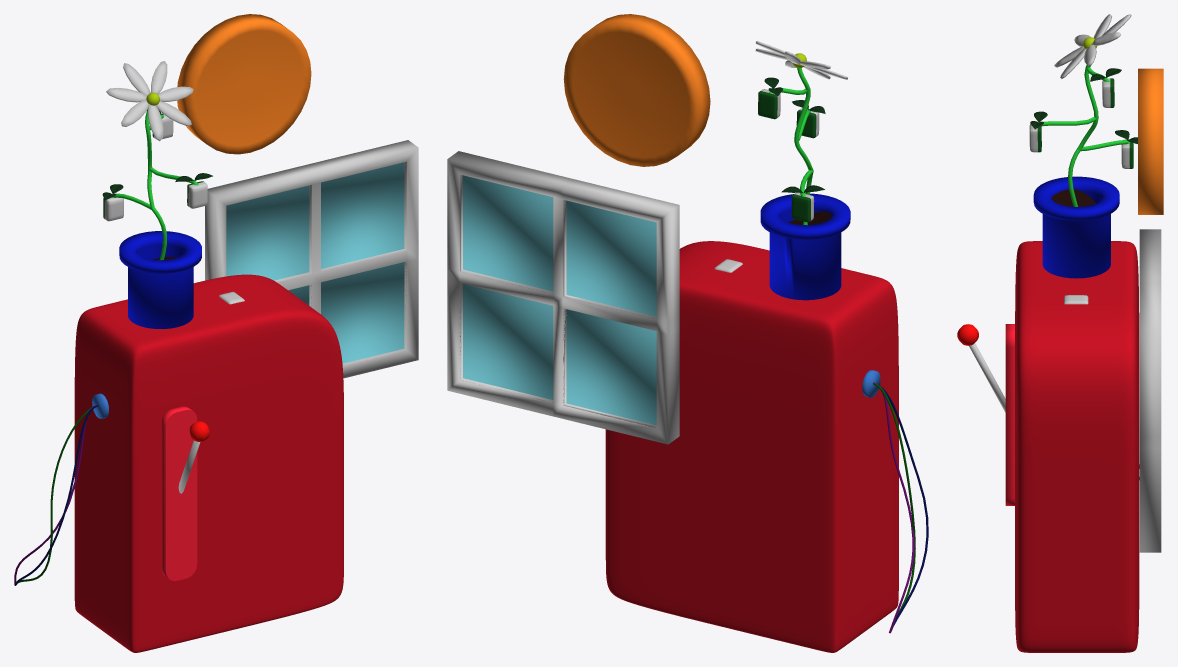
The model's file is plant.obj.
3 views of the same model, side by side, from view 1: azimuth 30°, elevation 25°; view 2: azimuth 150°, elevation 25°; view 3: azimuth 270°, elevation 25° (orthographic). The views are drawn at different scales.
Visible parts, largest first — view 1: machine_machine_mesh, window_window_mesh, clock_clock_mesh, pot_pot_mesh, slideslot_slideslot_mesh.001, petal_petal_mesh, stem_stem_mesh; view 2: machine_machine_mesh, window_window_mesh, clock_clock_mesh, pot_pot_mesh, stem_stem_mesh, petal_petal_mesh, cable2_BezierCurve.001, cable3_BezierCurve.002; view 3: machine_machine_mesh, window_window_mesh, pot_pot_mesh, clock_clock_mesh, slideslot_slideslot_mesh.001, petal_petal_mesh, stem_stem_mesh, slider_slider_mesh, dirt_dirt_mesh, slideball_slideball_mesh, card3_card2_mesh, card1_card2_mesh (+1 smaller).
Part boxes in pixels (bbox=[...]): machine_machine_mesh: bbox=[74, 274, 343, 652]; window_window_mesh: bbox=[205, 140, 418, 378]; clock_clock_mesh: bbox=[177, 14, 311, 154]; pot_pot_mesh: bbox=[119, 231, 201, 328]; slideslot_slideslot_mesh.001: bbox=[161, 406, 197, 580]; petal_petal_mesh: bbox=[106, 61, 193, 141]; stem_stem_mesh: bbox=[112, 109, 198, 260]; machine_machine_mesh: bbox=[605, 241, 898, 652]; window_window_mesh: bbox=[447, 151, 679, 444]; clock_clock_mesh: bbox=[563, 14, 710, 166]; pot_pot_mesh: bbox=[760, 193, 850, 300]; stem_stem_mesh: bbox=[769, 68, 813, 225]; petal_petal_mesh: bbox=[755, 41, 847, 79]; cable2_BezierCurve.001: bbox=[878, 384, 928, 629]; cable3_BezierCurve.002: bbox=[873, 382, 914, 633]; machine_machine_mesh: bbox=[1015, 241, 1139, 652]; window_window_mesh: bbox=[1139, 229, 1161, 552]; pot_pot_mesh: bbox=[1033, 176, 1119, 278]; clock_clock_mesh: bbox=[1138, 68, 1163, 214]; slideslot_slideslot_mesh.001: bbox=[1005, 324, 1014, 505]; petal_petal_mesh: bbox=[1054, 14, 1131, 78]; stem_stem_mesh: bbox=[1040, 65, 1130, 206]; slider_slider_mesh: bbox=[969, 343, 1005, 412]; dirt_dirt_mesh: bbox=[1051, 189, 1095, 206]; slideball_slideball_mesh: bbox=[957, 324, 978, 345]; card3_card2_mesh: bbox=[1102, 78, 1114, 107]; card1_card2_mesh: bbox=[1029, 124, 1041, 152].
Bounding box in the file's own units: 2.36 × 3.04 × 1.
